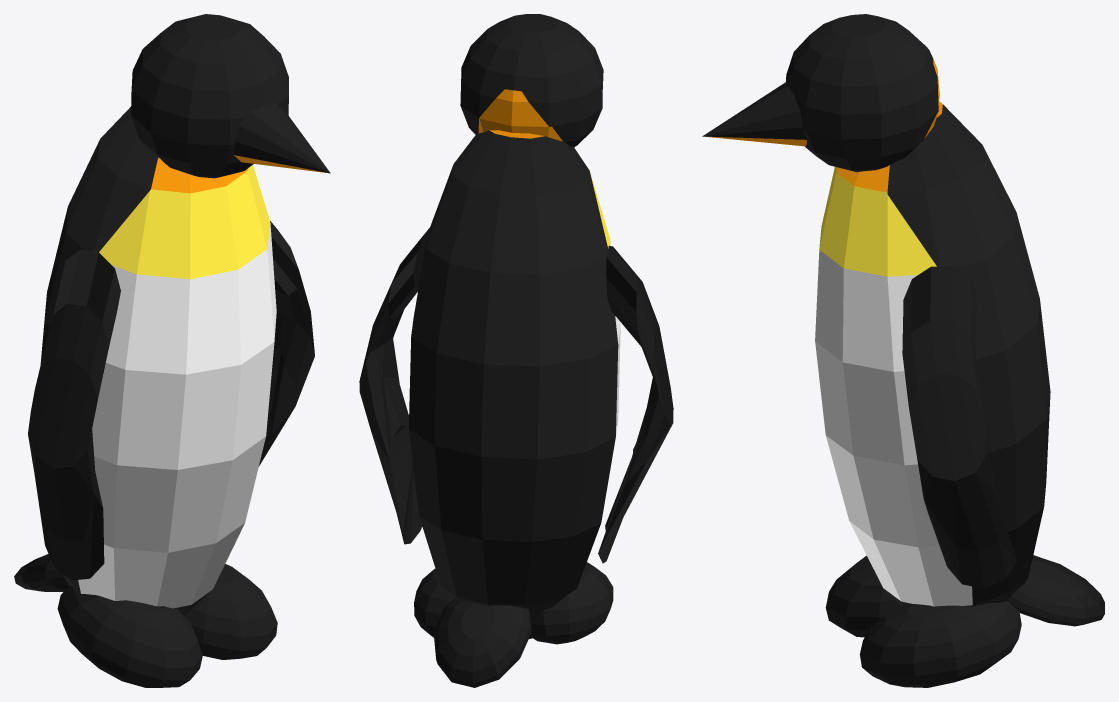
The model's file is Project Name.obj.
3 renders of one model, left to right at view 1: azimuth 30°, elevation 25°; view 2: azimuth 150°, elevation 25°; view 3: azimuth 270°, elevation 25°, orthographic. The views are drawn at different scales.
Parts seen in each view (by area): view 1: 000_Buffer_Layer, 003_Buffer_Layer, 002_Buffer_Layer, 001_Buffer_Layer; view 2: 000_Buffer_Layer, 001_Buffer_Layer; view 3: 000_Buffer_Layer, 003_Buffer_Layer, 002_Buffer_Layer, 001_Buffer_Layer.
Boxes of the visible parts, box(x1,y1,x2,y2) form: 000_Buffer_Layer: box(14, 14, 330, 687); 003_Buffer_Layer: box(78, 223, 276, 608); 002_Buffer_Layer: box(99, 165, 270, 279); 001_Buffer_Layer: box(151, 155, 328, 193); 000_Buffer_Layer: box(359, 14, 673, 687); 001_Buffer_Layer: box(478, 89, 562, 141); 000_Buffer_Layer: box(702, 14, 1104, 687); 003_Buffer_Layer: box(815, 250, 972, 606); 002_Buffer_Layer: box(819, 167, 936, 276); 001_Buffer_Layer: box(706, 59, 942, 192).
Bounding box in the file's own units: 0.316 × 0.665 × 0.378.
